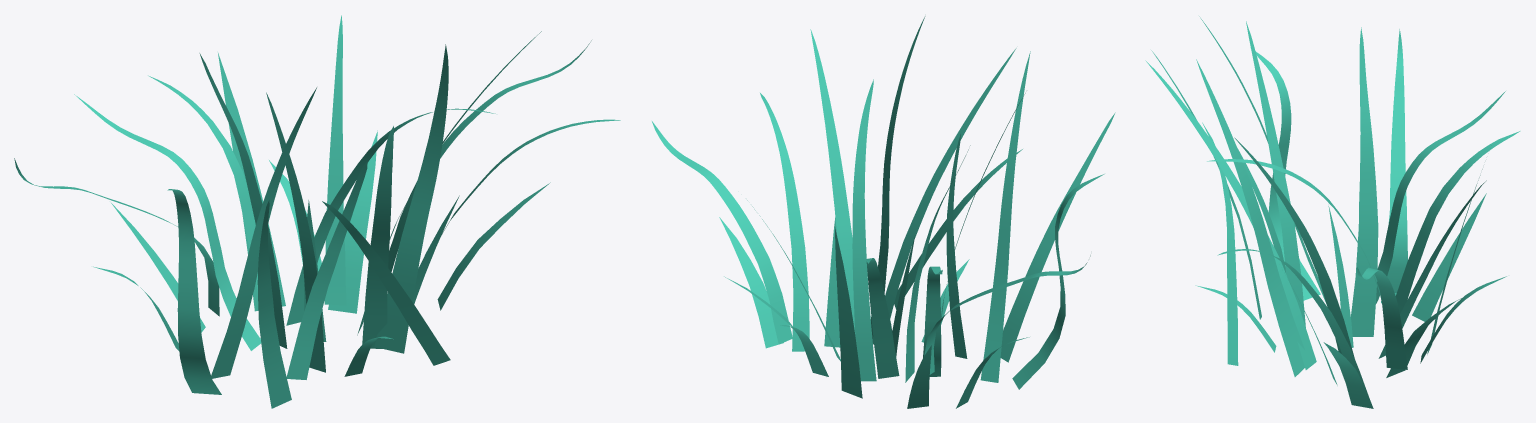
Rendered from coral_grass_A_dense.fbx.
The picture shows the model from 3 angles, left to right: view 1: azimuth 30°, elevation 25°; view 2: azimuth 150°, elevation 25°; view 3: azimuth 270°, elevation 25°; orthographic projection. The views are drawn at different scales.
Parts seen in each view (by area): view 1: coral_grass_A_leaf_A, coral_grass_A_leaf_I, coral_grass_A_leaf_C, coral_grass_A_leaf_B, coral_grass_A_leaf_K, coral_grass_A_leaf_D, coral_grass_A_leaf_X, coral_grass_A_leaf_O, coral_grass_A_leaf_J, coral_grass_A_leaf_Y, coral_grass_A_leaf_F, coral_grass_A_leaf_H (+9 smaller); view 2: coral_grass_A_leaf_G, coral_grass_A_leaf_C, coral_grass_A_leaf_M, coral_grass_A_leaf_N, coral_grass_A_leaf_E, coral_grass_A_leaf_D, coral_grass_A_leaf_B, coral_grass_A_leaf_Q, coral_grass_A_leaf_P, coral_grass_A_leaf_K, coral_grass_A_leaf_A, coral_grass_A_leaf_I (+10 smaller); view 3: coral_grass_A_leaf_H, coral_grass_A_leaf_A, coral_grass_A_leaf_L, coral_grass_A_leaf_F, coral_grass_A_leaf_B, coral_grass_A_leaf_P, coral_grass_A_leaf_N, coral_grass_A_leaf_I, coral_grass_A_leaf_J, coral_grass_A_leaf_O, coral_grass_A_leaf_E, coral_grass_A_leaf_V (+11 smaller).
Boxes of the visible parts, box(x1,y1,x2,y2) form: coral_grass_A_leaf_A: box(374, 44, 448, 353); coral_grass_A_leaf_I: box(167, 189, 221, 394); coral_grass_A_leaf_C: box(211, 87, 316, 378); coral_grass_A_leaf_B: box(362, 126, 393, 348); coral_grass_A_leaf_K: box(286, 161, 367, 379); coral_grass_A_leaf_D: box(257, 200, 291, 408); coral_grass_A_leaf_X: box(324, 15, 346, 305); coral_grass_A_leaf_O: box(74, 94, 261, 350); coral_grass_A_leaf_J: box(322, 201, 450, 365); coral_grass_A_leaf_Y: box(328, 130, 377, 313); coral_grass_A_leaf_F: box(266, 92, 325, 372); coral_grass_A_leaf_H: box(199, 53, 287, 348); coral_grass_A_leaf_G: box(852, 79, 876, 381); coral_grass_A_leaf_C: box(980, 51, 1030, 382); coral_grass_A_leaf_M: box(760, 93, 809, 351); coral_grass_A_leaf_N: box(652, 121, 792, 344); coral_grass_A_leaf_E: box(810, 29, 855, 333); coral_grass_A_leaf_D: box(1000, 112, 1115, 362); coral_grass_A_leaf_B: box(872, 48, 1016, 344); coral_grass_A_leaf_Q: box(834, 226, 862, 398); coral_grass_A_leaf_P: box(866, 258, 899, 378); coral_grass_A_leaf_K: box(946, 134, 967, 358); coral_grass_A_leaf_A: box(870, 16, 925, 338); coral_grass_A_leaf_I: box(1012, 174, 1104, 389); coral_grass_A_leaf_H: box(1351, 27, 1378, 336); coral_grass_A_leaf_A: box(1196, 59, 1304, 376); coral_grass_A_leaf_L: box(1387, 29, 1407, 292); coral_grass_A_leaf_F: box(1246, 21, 1305, 327); coral_grass_A_leaf_B: box(1145, 60, 1316, 369); coral_grass_A_leaf_P: box(1395, 131, 1520, 313); coral_grass_A_leaf_N: box(1357, 267, 1407, 369); coral_grass_A_leaf_I: box(1255, 51, 1320, 300); coral_grass_A_leaf_J: box(1202, 122, 1238, 365); coral_grass_A_leaf_O: box(1375, 91, 1505, 304); coral_grass_A_leaf_E: box(1234, 137, 1354, 358); coral_grass_A_leaf_V: box(1412, 193, 1486, 321).
Bounding box in the file's own units: 163 × 100 × 108.
